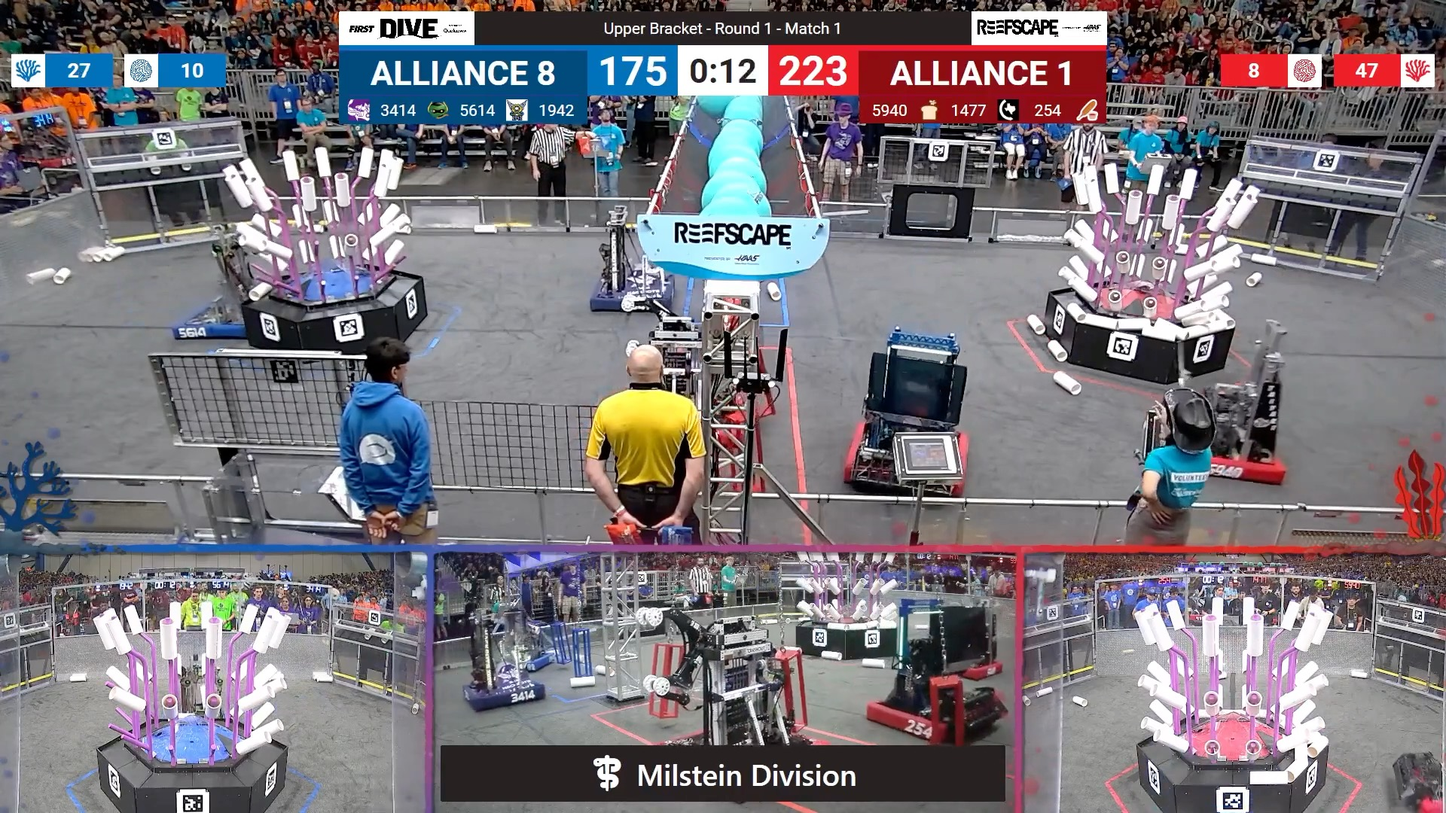bumpers: (832, 416, 972, 500), (1177, 418, 1294, 491), (859, 686, 970, 743), (591, 271, 685, 319), (176, 285, 252, 344), (455, 675, 548, 713), (936, 659, 1010, 683), (1409, 765, 1446, 813), (510, 657, 565, 676)
